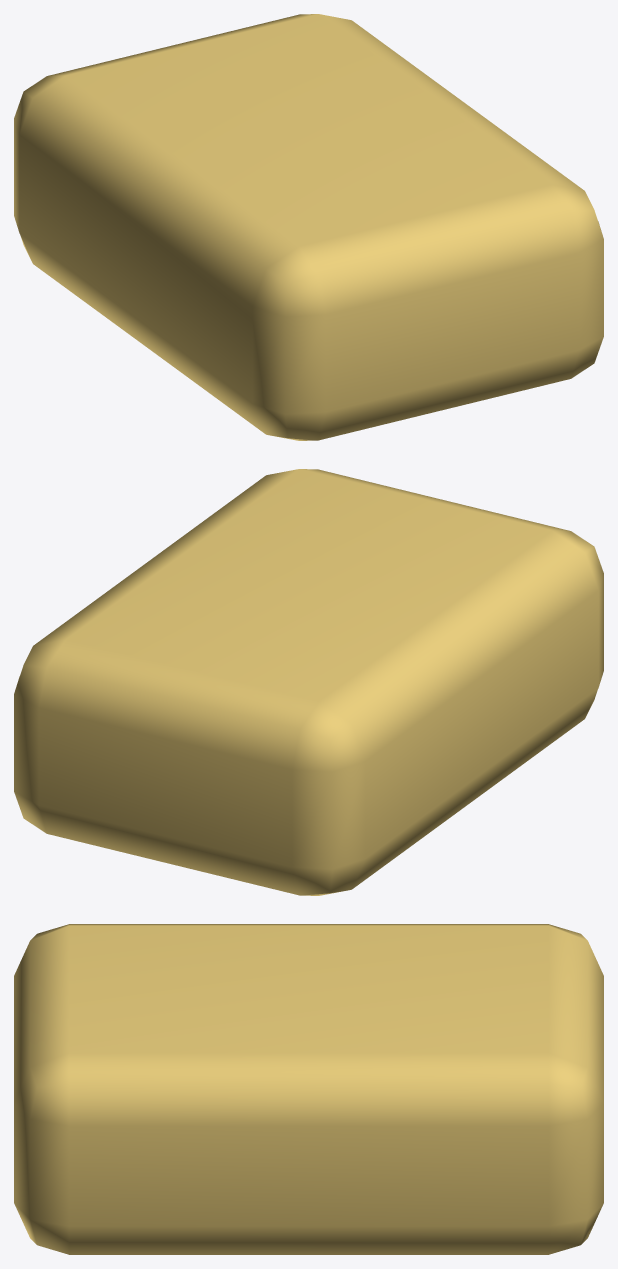
File: hay.fbx
3 views of the same model, one above another, from view 1: azimuth 30°, elevation 25°; view 2: azimuth 150°, elevation 25°; view 3: azimuth 270°, elevation 25° (orthographic). The views are drawn at different scales.
Parts seen in each view (by area): view 1: hay; view 2: hay; view 3: hay.
Part boxes in pixels (<box>): hay: <box>14,14,603,440</box>; hay: <box>14,469,603,895</box>; hay: <box>14,924,603,1254</box>.
Size of the model in its own units: 134 by 71.76 by 192.
